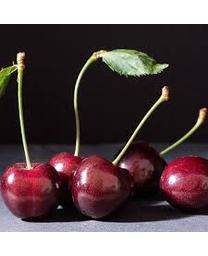cherry: (71, 153, 134, 220), (0, 161, 59, 221), (112, 142, 167, 204), (161, 154, 207, 215), (47, 152, 90, 204)
